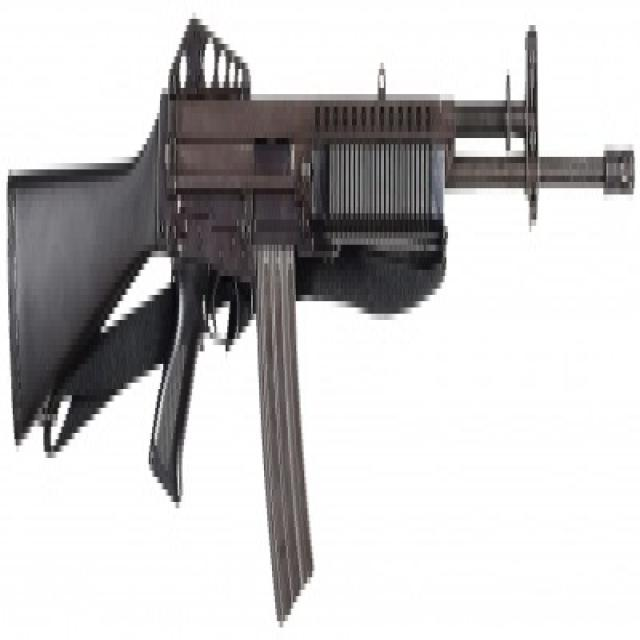rifle: (1, 24, 637, 594)
